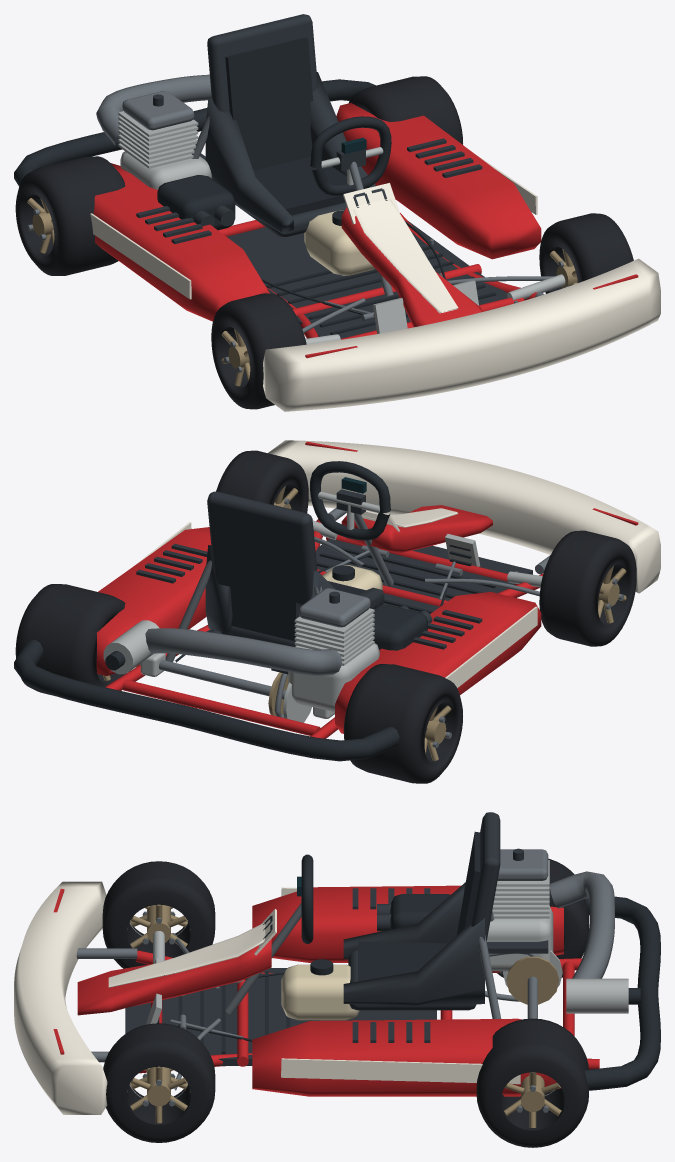
File: apex.glb
3 views of the same model, one above another, from view 1: azimuth 30°, elevation 25°; view 2: azimuth 150°, elevation 25°; view 3: azimuth 270°, elevation 25° (orthographic).
Parts seen in each view (by area): view 1: Livery ivory (×2), paint, Slick vulcanised rubber (×4), Satin composite, Seat fabric, Moulded bumper polymer (×2), Brushed alloy (×2), Steel fasteners, Fuel reservoir, Magnesium wheel centres (×2); view 2: Slick vulcanised rubber (×4), paint, Satin composite (×2), Livery ivory (×2), Moulded bumper polymer (×2), Steel fasteners, Brushed alloy (×3), Magnesium wheel centres (×2), Fuel reservoir; view 3: paint, Slick vulcanised rubber (×4), Livery ivory (×2), Satin composite, Moulded bumper polymer (×2), Steel fasteners (×2), Brushed alloy, Magnesium wheel centres (×4), Seat fabric, Fuel reservoir.
Part boxes in pixels (x1,y1,x2,y2): Livery ivory (×2): (90,154,660,411); paint: (93,103,541,339); Slick vulcanised rubber (×4): (15,76,633,409); Satin composite: (136,14,507,338); Seat fabric: (225,37,346,215); Moulded bumper polymer (×2): (14,79,496,334); Brushed alloy (×2): (118,111,565,344); Steel fasteners: (96,74,554,332); Fuel reservoir: (304,210,374,275); Magnesium wheel centres (×2): (27,198,250,386); Slick vulcanised rubber (×4): (15,450,636,783); paint: (96,505,543,738); Satin composite (×2): (136,489,532,674); Livery ivory (×2): (131,440,660,687); Moulded bumper polymer (×2): (14,461,496,761); Steel fasteners: (139,513,539,717); Brushed alloy (×3): (103,491,542,722); Magnesium wheel centres (×2): (424,566,626,761); Fuel reservoir: (322,565,382,590); paint: (77,885,599,1096); Slick vulcanised rubber (×4): (102,858,588,1147); Livery ivory (×2): (14,881,520,1114); Satin composite: (125,812,548,1065); Moulded bumper polymer (×2): (177,854,660,1090); Steel fasteners (×2): (76,849,614,1090); Brushed alloy: (153,860,628,1013); Magnesium wheel centres (×4): (130,904,561,1127); Seat fabric: (358,831,480,981); Fuel reservoir: (281,964,359,1020).
Bounding box in the file's own units: 2 × 1.01 × 2.7.
